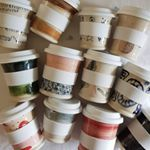cups: (38, 42, 87, 100), (106, 4, 150, 62), (77, 48, 121, 105), (1, 47, 44, 104), (1, 100, 46, 150), (41, 95, 83, 145), (76, 5, 118, 52)
